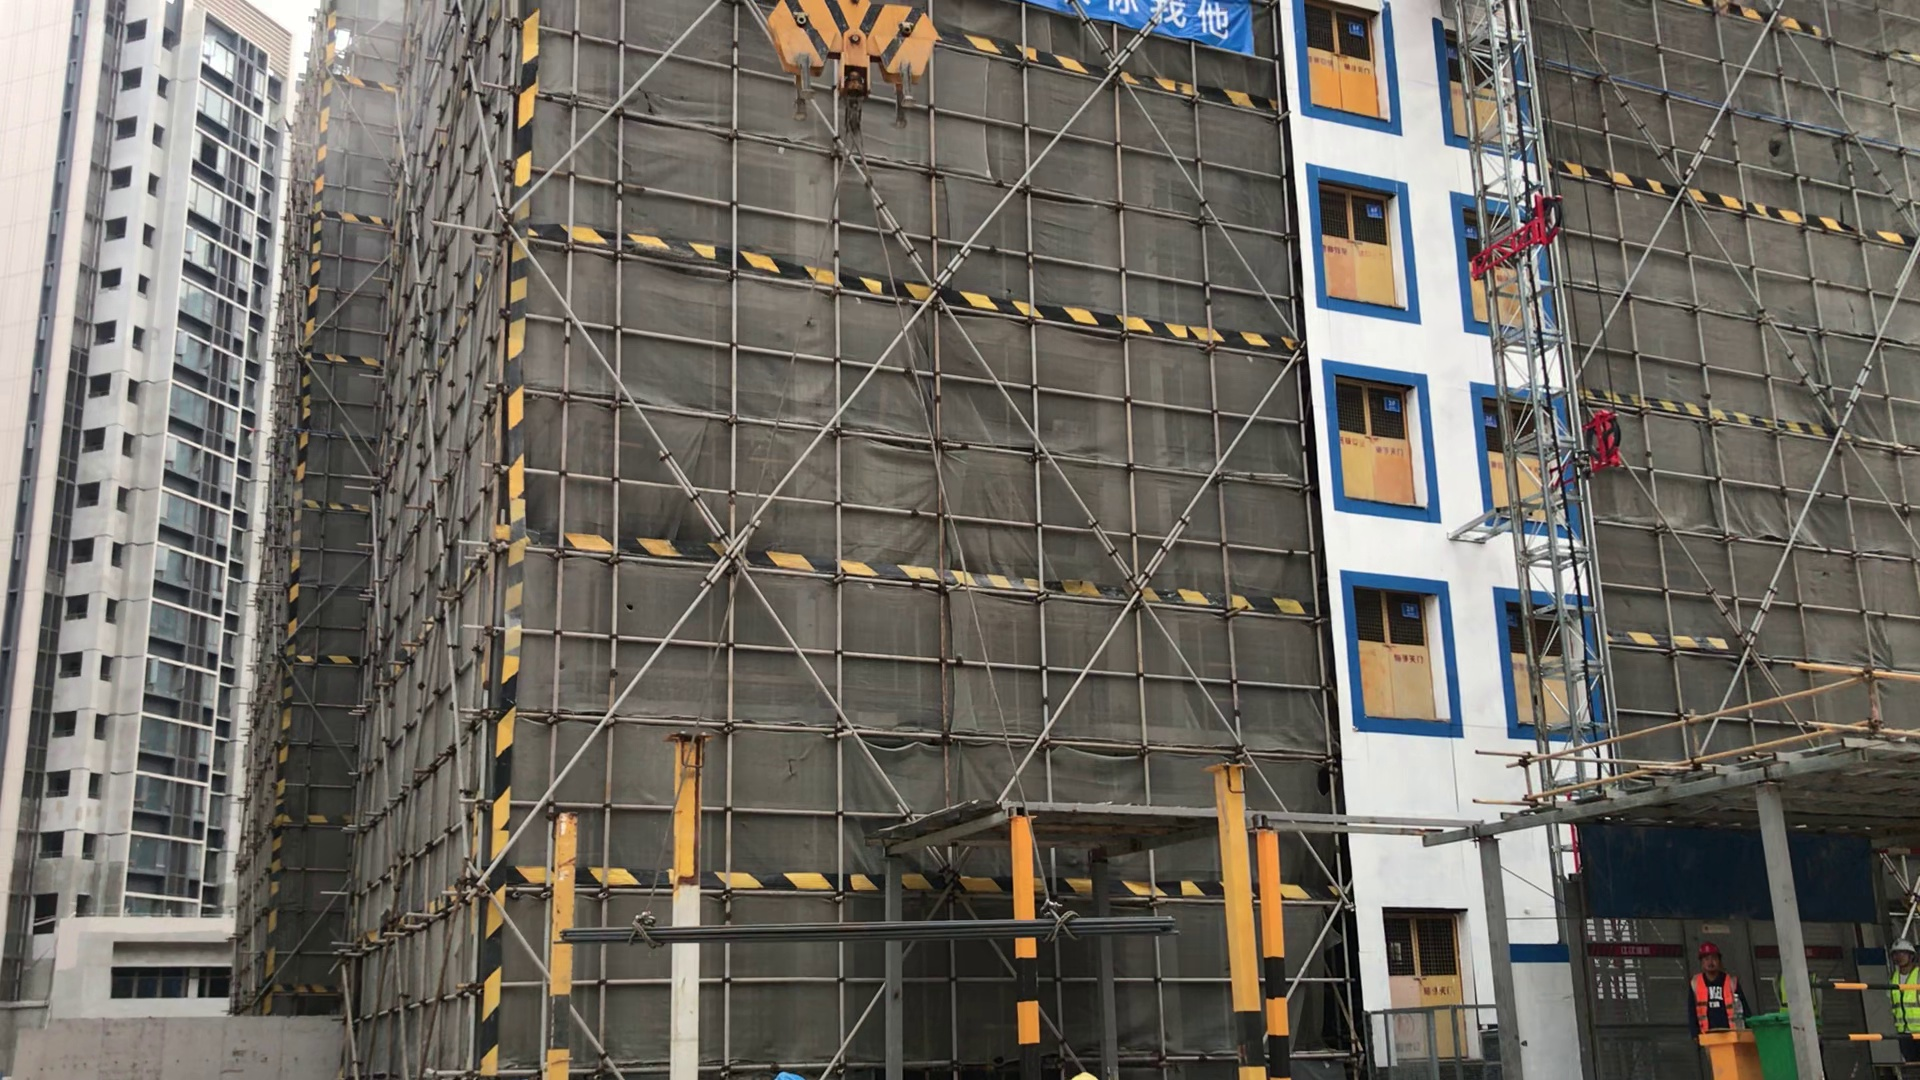helmet: (1690, 938, 1730, 958), (1887, 937, 1916, 958)
hook: (737, 1, 991, 162)
person: (1683, 934, 1754, 1045), (1874, 934, 1920, 1064)
rebar: (544, 903, 1208, 965)
slogan: (1006, 1, 1275, 76)
vest: (1689, 973, 1748, 1038), (1888, 966, 1920, 1047)
